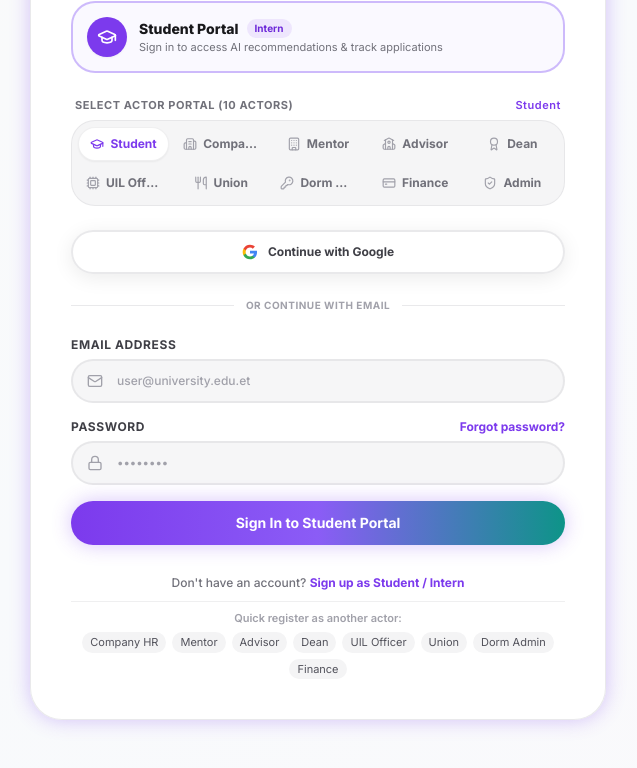
Authentication Pages › LoginPage › shows validation error when submitting empty fields
The image size is (637, 768).
(page scrolled)
Click the button "Sign In to Student Portal": (318, 522) x1=71 y1=500 x2=565 y2=544
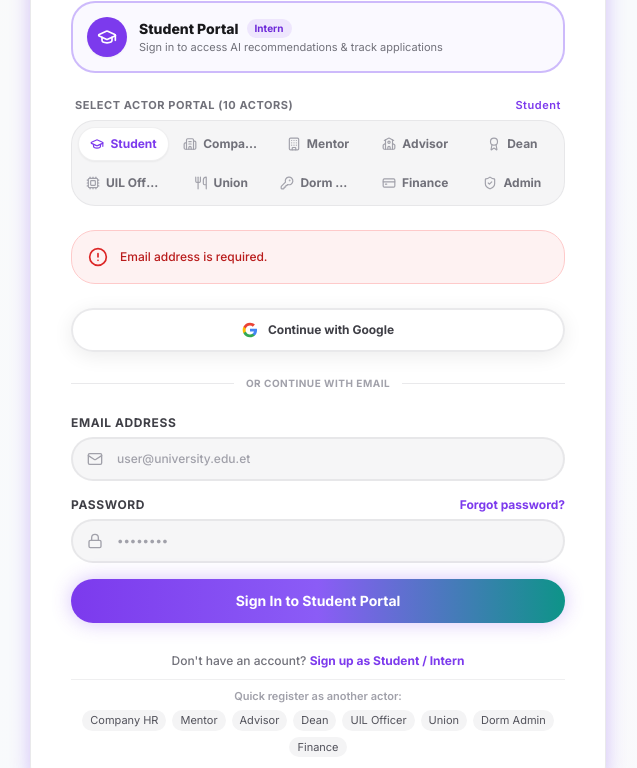
Check: the text "Email address is required." is shown, box x1=120 y1=248 x2=268 y2=264
